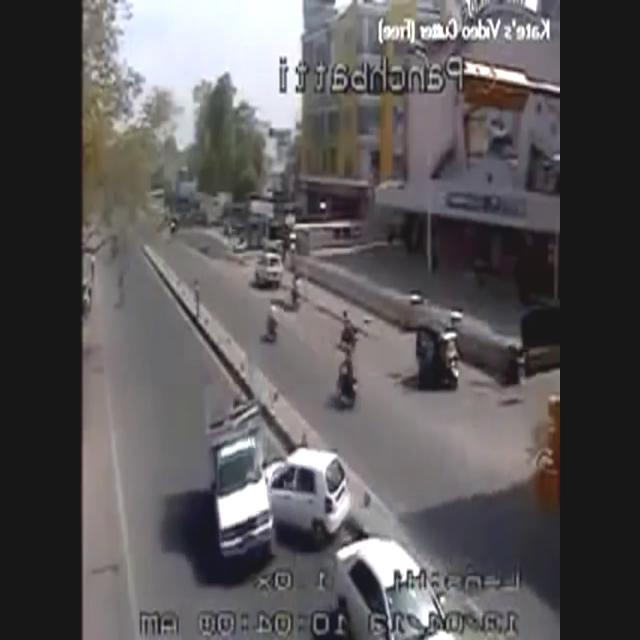accident: (214, 438, 350, 554)
